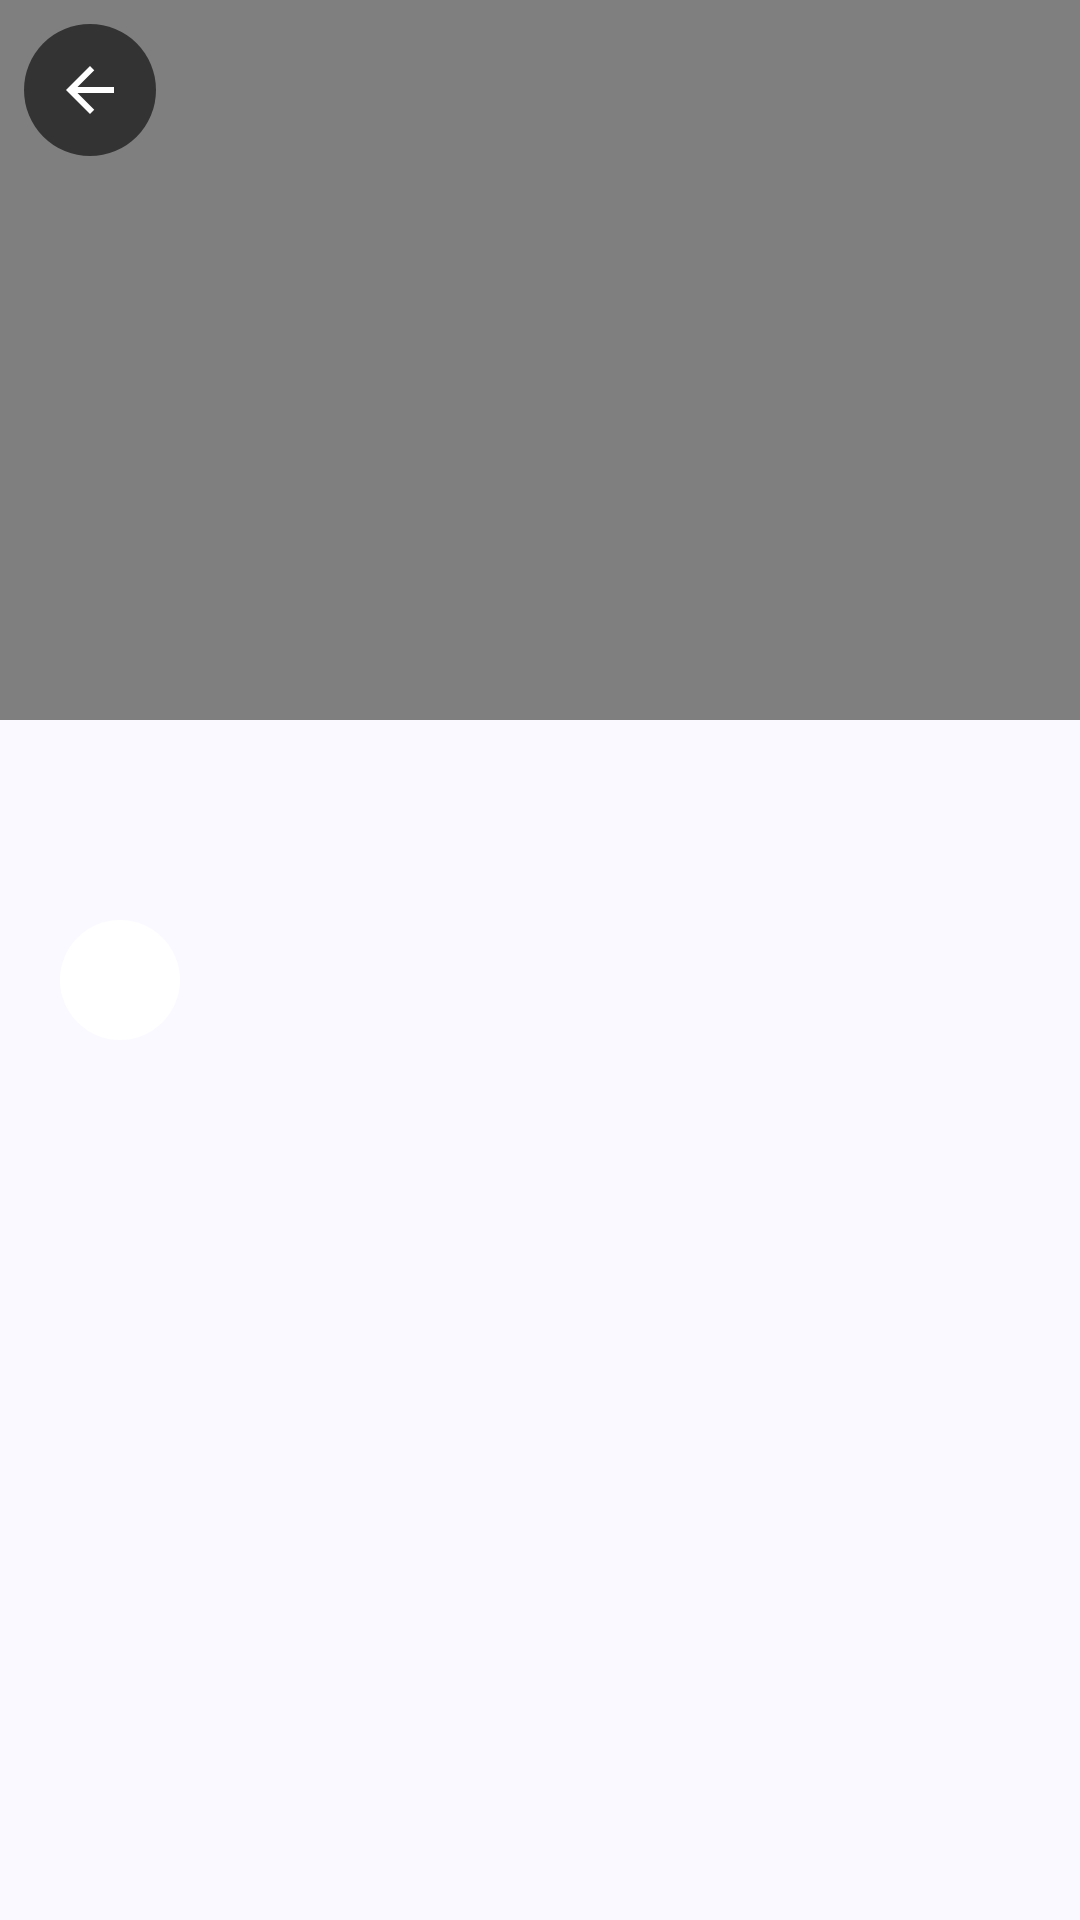

Locate icon controls on the screen. Image size 1080px x 1920px, boxes as (x1, y1, x2, y2).
Back: (24, 24, 156, 156)
